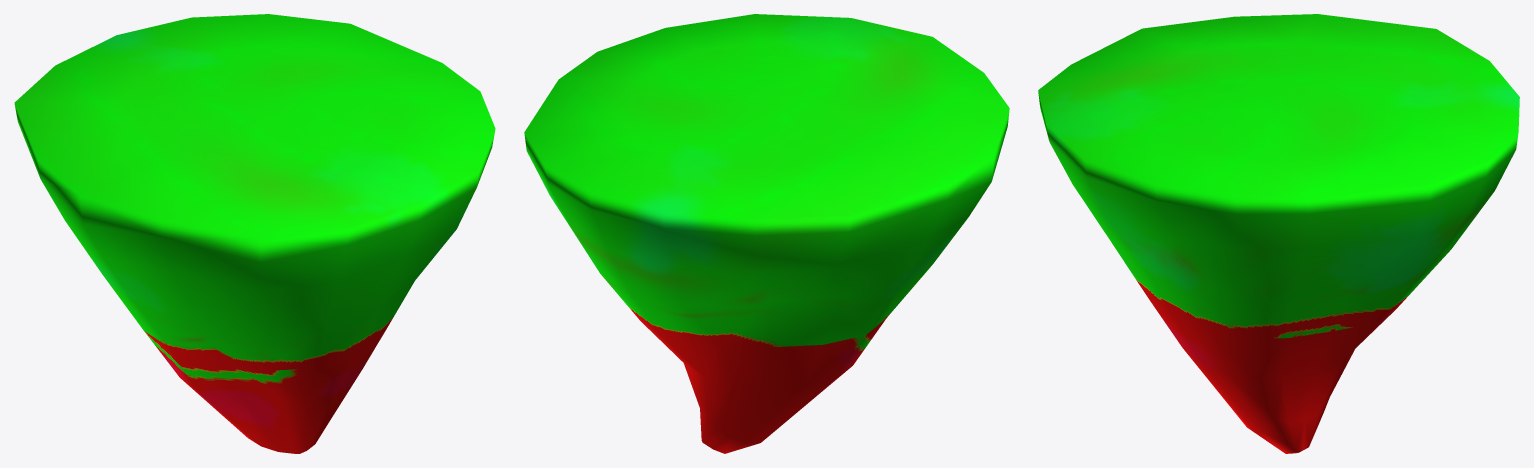
Rendered from PaintedIslandShape2.dae.
The picture shows the model from 3 angles, left to right: view 1: azimuth 30°, elevation 25°; view 2: azimuth 150°, elevation 25°; view 3: azimuth 270°, elevation 25°; orthographic projection. The views are drawn at different scales.
Parts seen in each view (by area): view 1: PaintedIsland2; view 2: PaintedIsland2; view 3: PaintedIsland2.
Boxes of the visible parts, bbox=[...] form: PaintedIsland2: bbox=[14, 14, 495, 453]; PaintedIsland2: bbox=[524, 14, 1009, 453]; PaintedIsland2: bbox=[1038, 14, 1519, 453].
Size of the model in its own units: 51.72 by 44.5 by 56.26.
